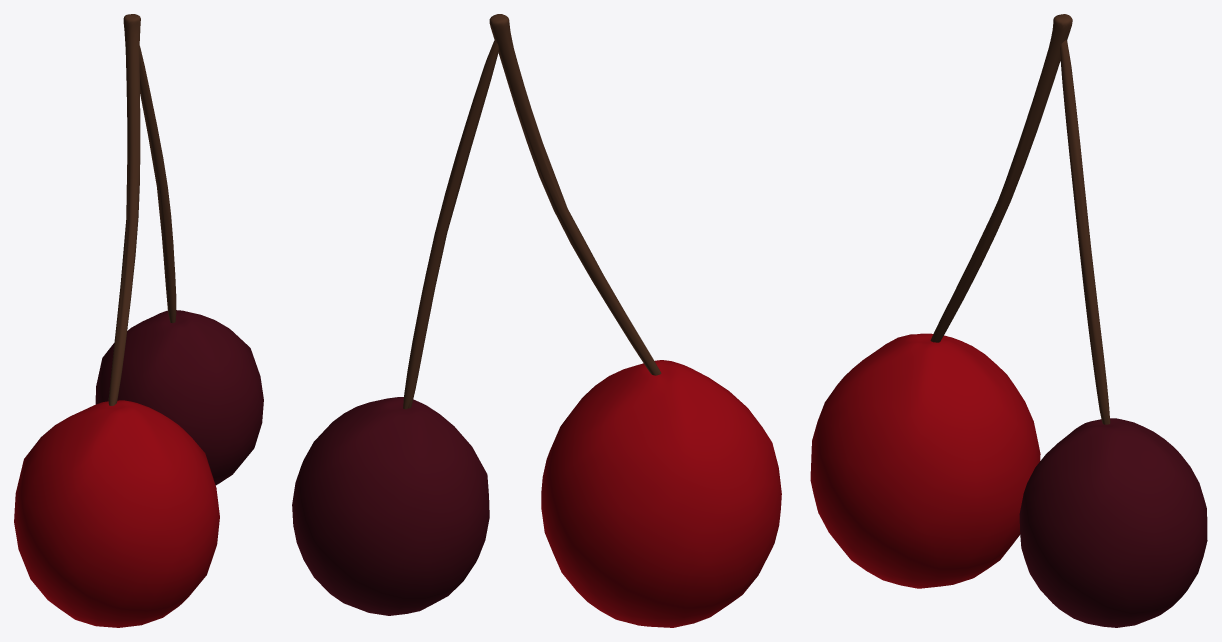
Rendered from Cherry_still_good.fbx.
3 renders of one model, left to right at view 1: azimuth 30°, elevation 25°; view 2: azimuth 150°, elevation 25°; view 3: azimuth 270°, elevation 25°, orthographic. The views are drawn at different scales.
Parts seen in each view (by area): view 1: polySurface9, polySurface10, polySurface12, polySurface11; view 2: polySurface9, polySurface10, polySurface12, polySurface11; view 3: polySurface9, polySurface10, polySurface12, polySurface11.
Part boxes in pixels (left/top/right/bottom): polySurface9: left=14, top=400, right=219, bottom=627; polySurface10: left=95, top=310, right=263, bottom=485; polySurface12: left=108, top=14, right=140, bottom=405; polySurface11: left=139, top=46, right=176, bottom=323; polySurface9: left=541, top=360, right=781, bottom=627; polySurface10: left=292, top=397, right=489, bottom=615; polySurface12: left=489, top=14, right=661, bottom=375; polySurface11: left=403, top=40, right=498, bottom=409; polySurface9: left=810, top=333, right=1040, bottom=588; polySurface10: left=1019, top=418, right=1207, bottom=627; polySurface12: left=930, top=14, right=1072, bottom=342; polySurface11: left=1060, top=40, right=1110, bottom=424.
Bounding box in the file's own units: 0.805 × 1.35 × 0.8.
